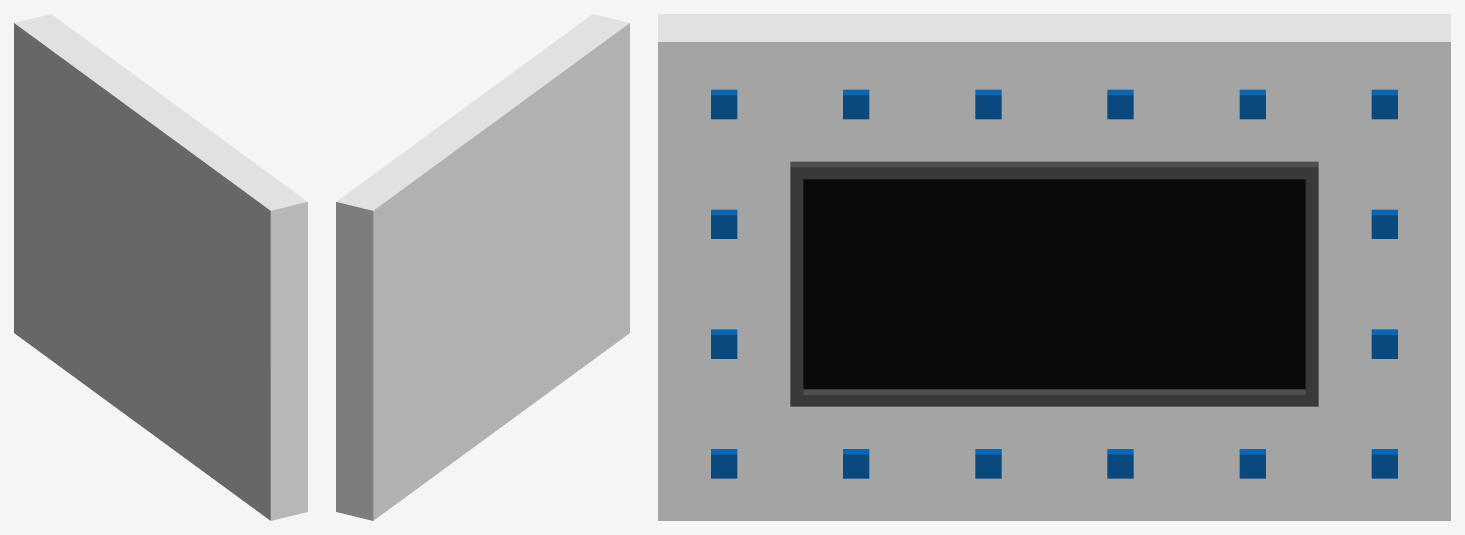
Rendered from Wall4.fbx.
The picture shows the model from 3 angles, left to right: view 1: azimuth 30°, elevation 25°; view 2: azimuth 150°, elevation 25°; view 3: azimuth 270°, elevation 25°; orthographic projection. The views are drawn at different scales.
Visible parts, largest first — view 1: Stage_Wall_4:Mesh; view 2: Stage_Wall_4:Mesh; view 3: Stage_Wall_4:Mesh.
Boxes of the visible parts, x1,y1,x2,y2 form: Stage_Wall_4:Mesh: [14, 14, 307, 520]; Stage_Wall_4:Mesh: [336, 14, 629, 520]; Stage_Wall_4:Mesh: [658, 14, 1450, 520].
Size of the model in its own units: 6 by 40 by 60.
1 material, 1 textured.
